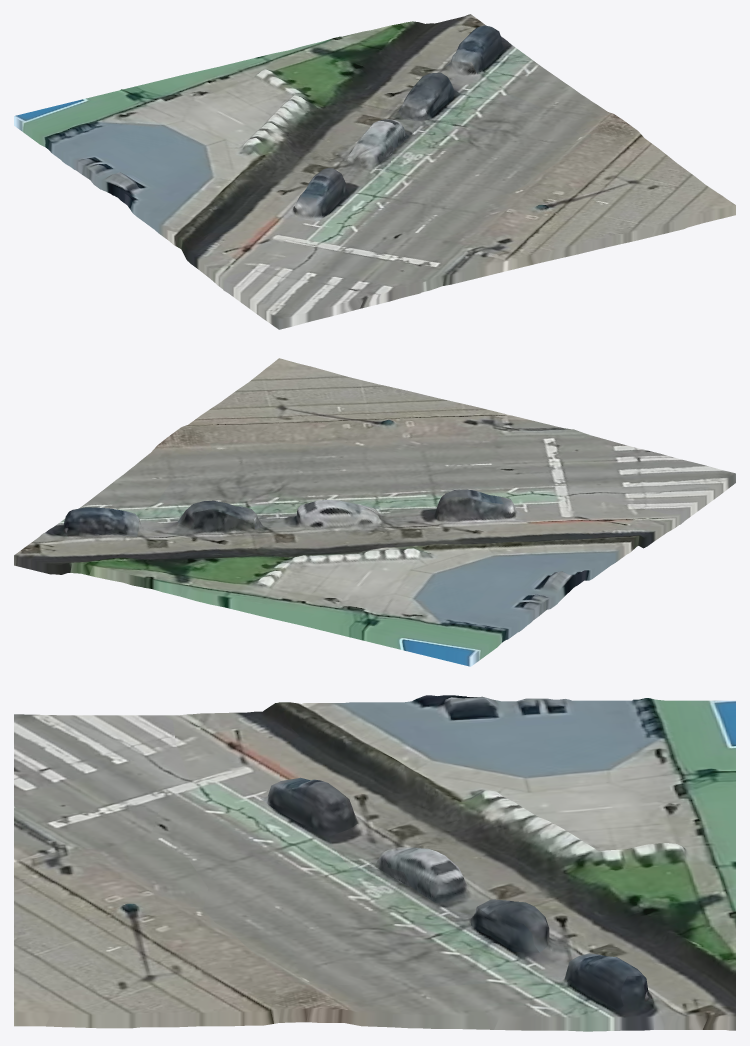
File: z20-167781-405211-h0-yup-uvflip-v3-world.glb
The picture shows the model from 3 angles, top to bottom: view 1: azimuth 30°, elevation 25°; view 2: azimuth 150°, elevation 25°; view 3: azimuth 270°, elevation 25°; orthographic projection. The views are drawn at different scales.
Size of the model in its own units: 30.16 by 2.32 by 30.32.
1 material, 1 textured.
